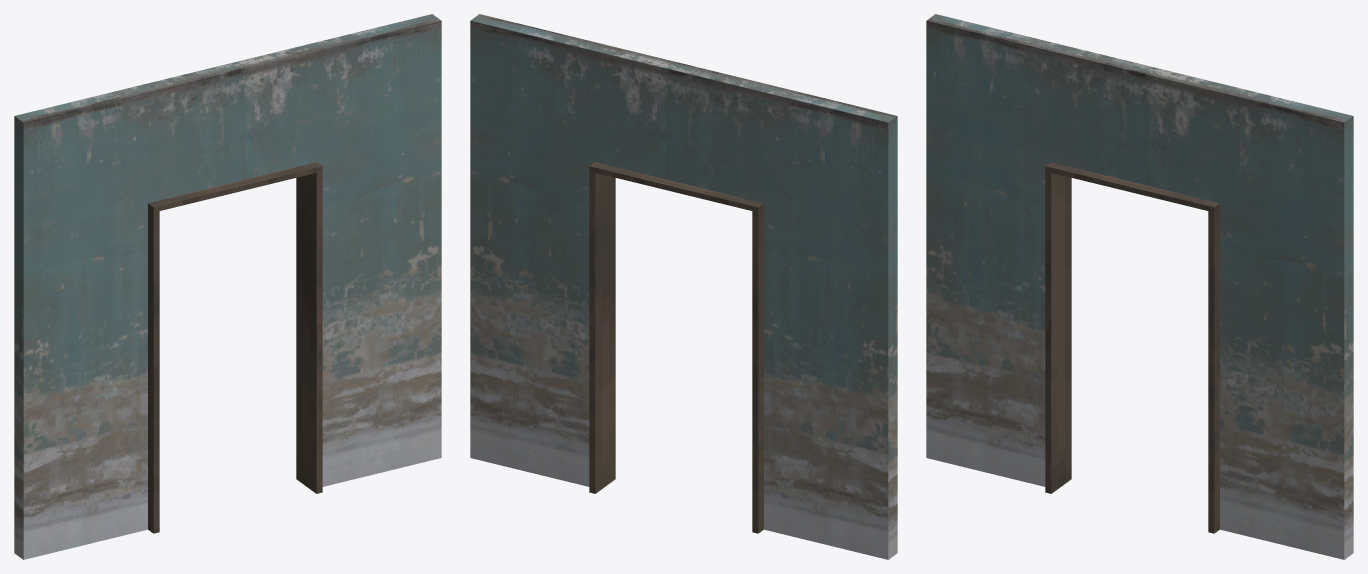
File: item_halloween_doorway.glb
3 renders of one model, left to right at view 1: azimuth 30°, elevation 25°; view 2: azimuth 150°, elevation 25°; view 3: azimuth 330°, elevation 25°, orthographic.
Visible parts, largest first — view 1: Doorway_submesh_1, Doorway_submesh_0; view 2: Doorway_submesh_1, Doorway_submesh_0; view 3: Doorway_submesh_1, Doorway_submesh_0.
Boxes of the visible parts, x1,y1,x2,y2 form: Doorway_submesh_1: (14,14,441,559); Doorway_submesh_0: (148,162,322,533); Doorway_submesh_1: (470,14,897,559); Doorway_submesh_0: (589,162,763,533); Doorway_submesh_1: (926,14,1353,559); Doorway_submesh_0: (1045,162,1219,533).
Size of the model in its own units: 1.99 by 1.99 by 0.1679.
2 materials, 2 textured.
